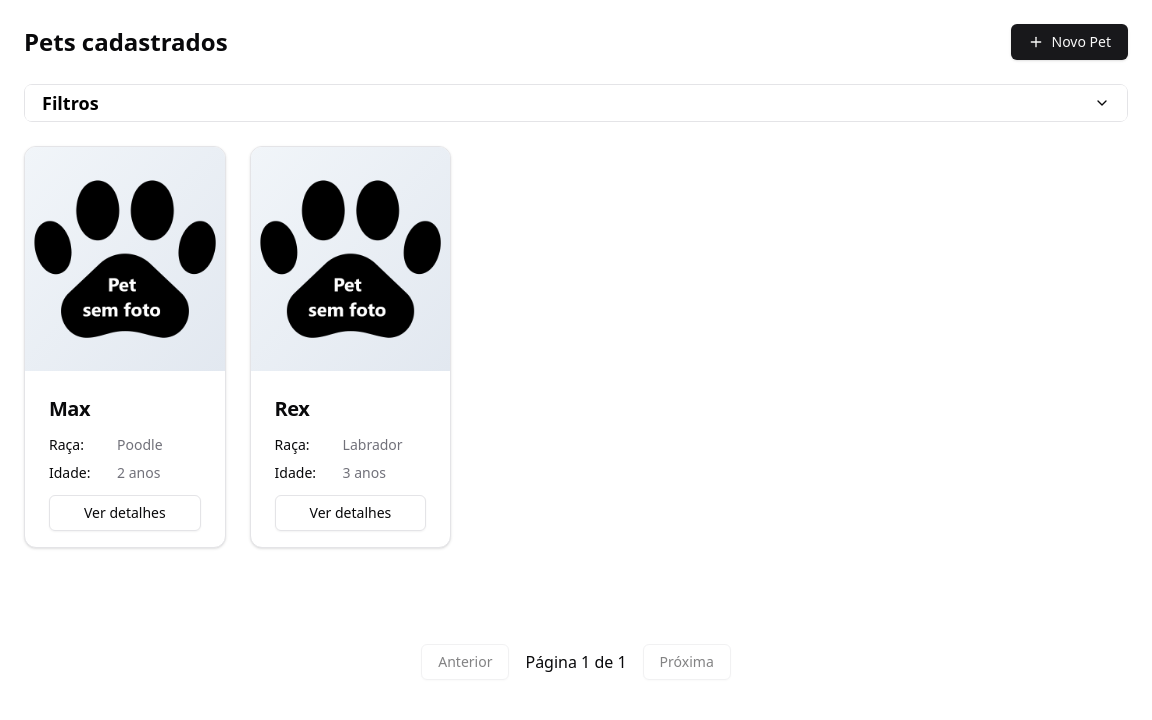
Test: PetsLista › exibe mensagem quando pesquisa não retorna resultados
The width and height of the screenshot is (1152, 720).
Expected: the text "Max" is shown, [49,395,90,422]
Expected: the text "Rex" is shown, [275,395,309,422]
// Abrir o collapsible de filtros
Step 1. Click the button "Filtros" → (70, 103), box [25,85,1127,121]
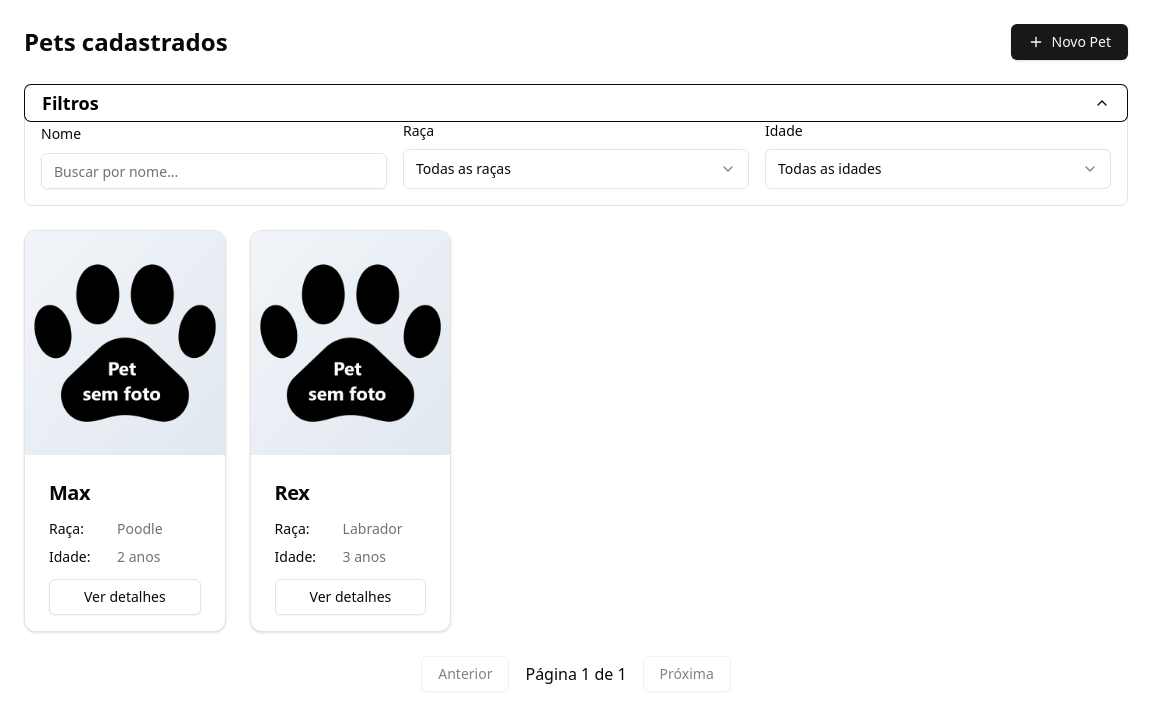
// Buscar por um nome que não existe
Step 2. Type "NomeInexistente" into the field with placeholder "Buscar por nome..." → (214, 171), box [41,153,387,189]
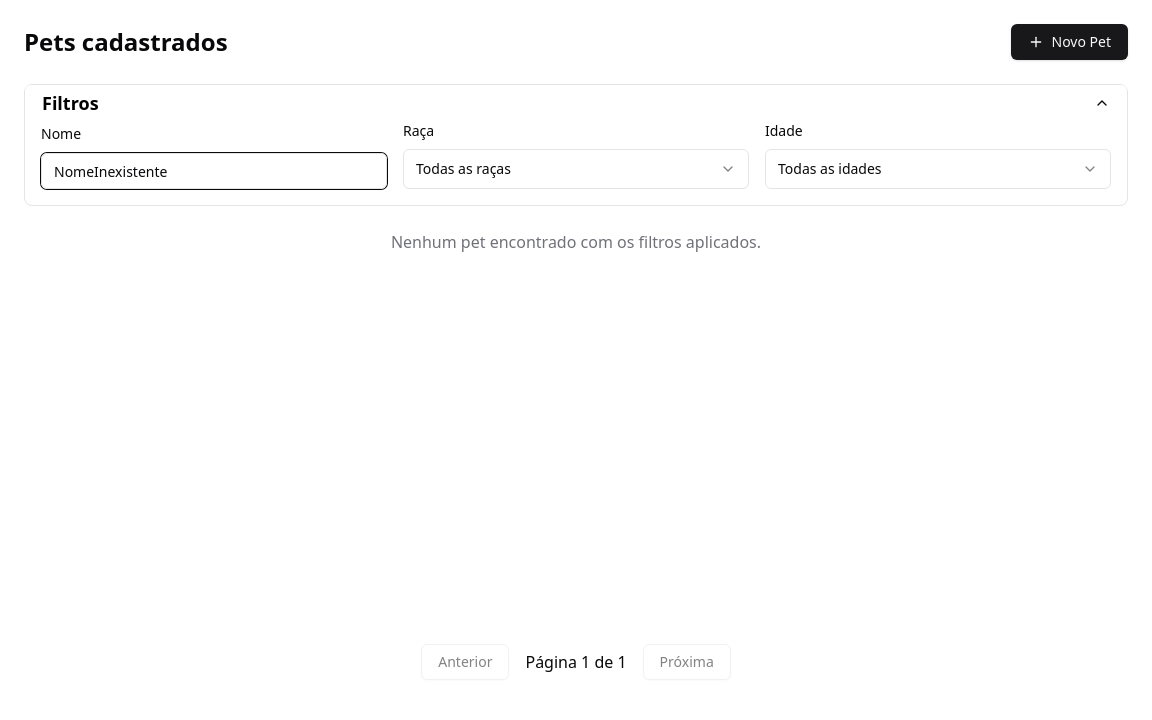
Now the text "Nenhum pet encontrado com os filtros aplicados." is shown, box [391,231,761,253]
